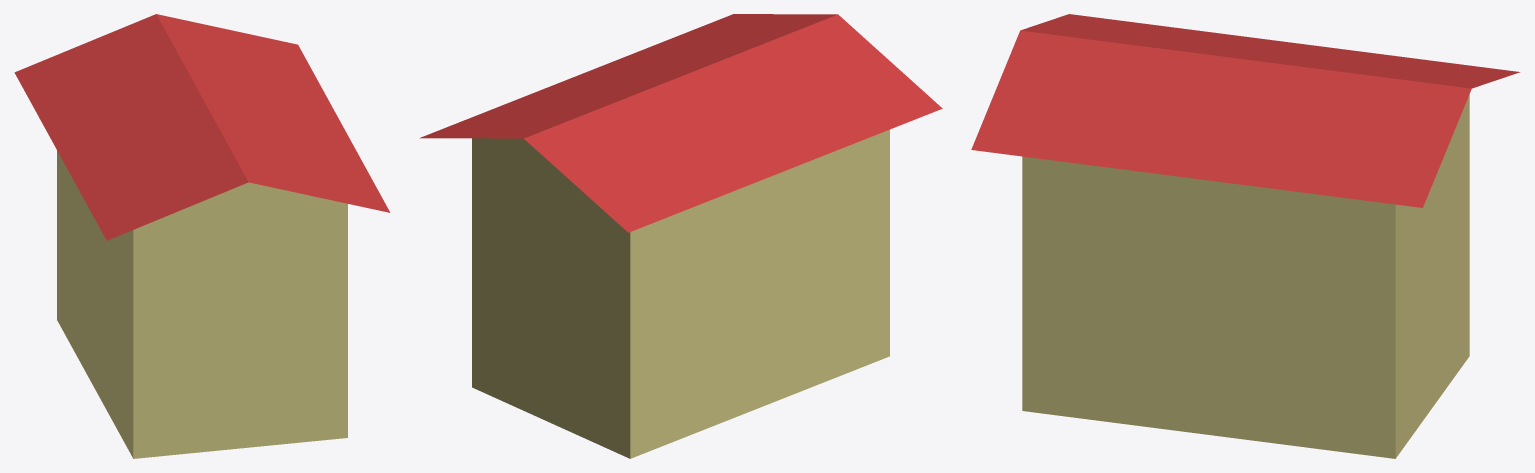
The picture shows the model from 3 angles, left to right: view 1: azimuth 30°, elevation 25°; view 2: azimuth 150°, elevation 25°; view 3: azimuth 270°, elevation 25°; orthographic projection. The views are drawn at different scales.
Parts seen in each view (by area): view 1: group_5, group_3, group_4; view 2: group_5, group_3, group_4; view 3: group_5, group_3, group_4.
Boxes of the visible parts, x1,y1,x2,y2 form: group_5: (57,150,347,458); group_3: (15,14,390,240); group_4: (14,14,248,182); group_5: (472,129,889,458); group_3: (419,14,942,232); group_4: (524,14,838,232); group_5: (1022,94,1469,458); group_3: (971,14,1518,207); group_4: (1023,30,1520,202).
Bounding box in the file's own units: 8.4 × 10.05 × 6.54.
